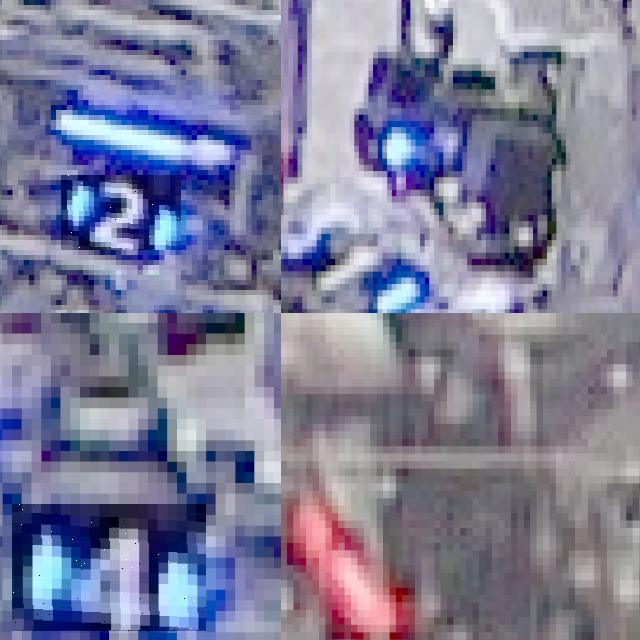B1: (283, 214, 420, 313)
B2: (61, 175, 181, 250)
B4: (12, 504, 206, 632)
